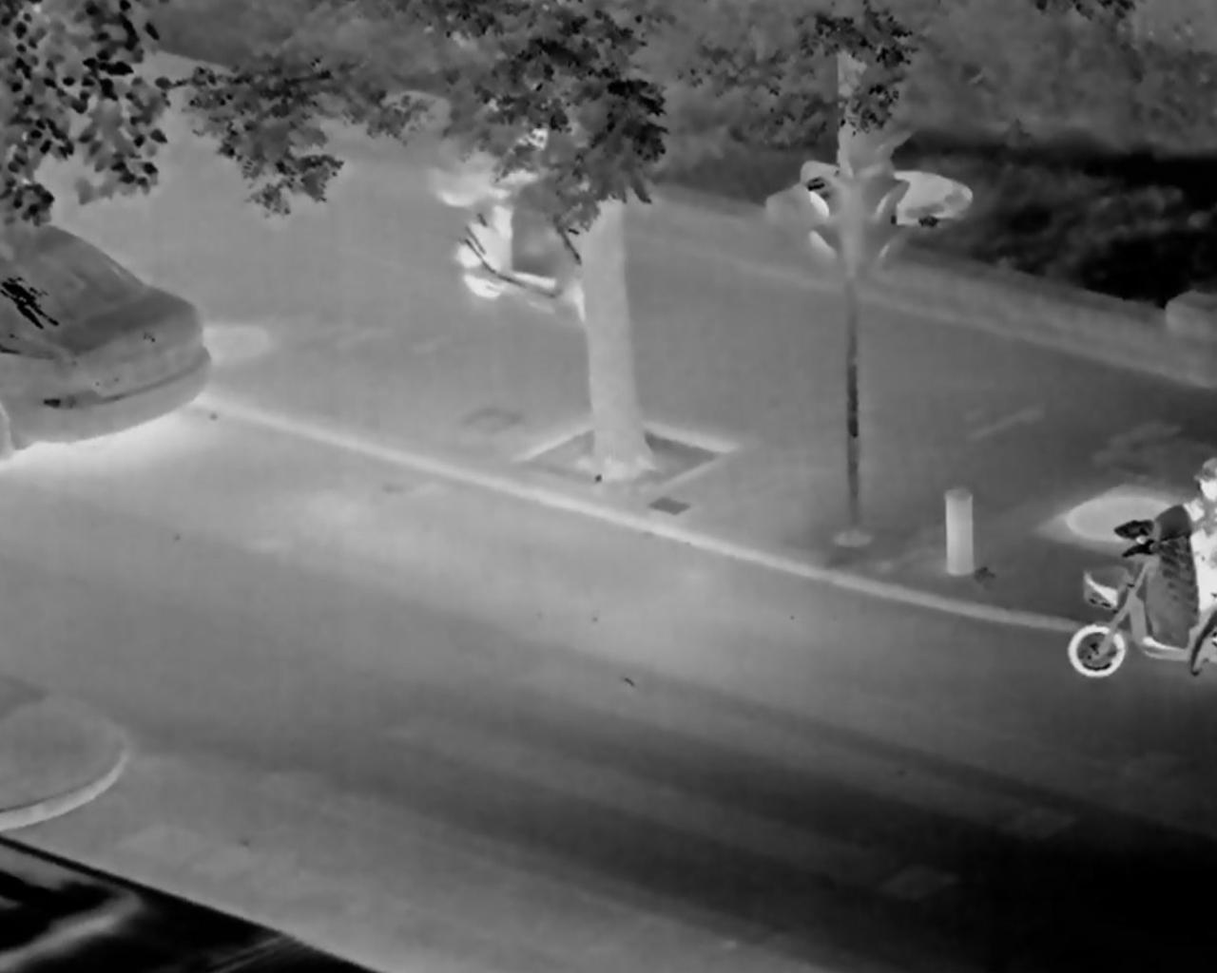person: (1180, 466, 1217, 657)
